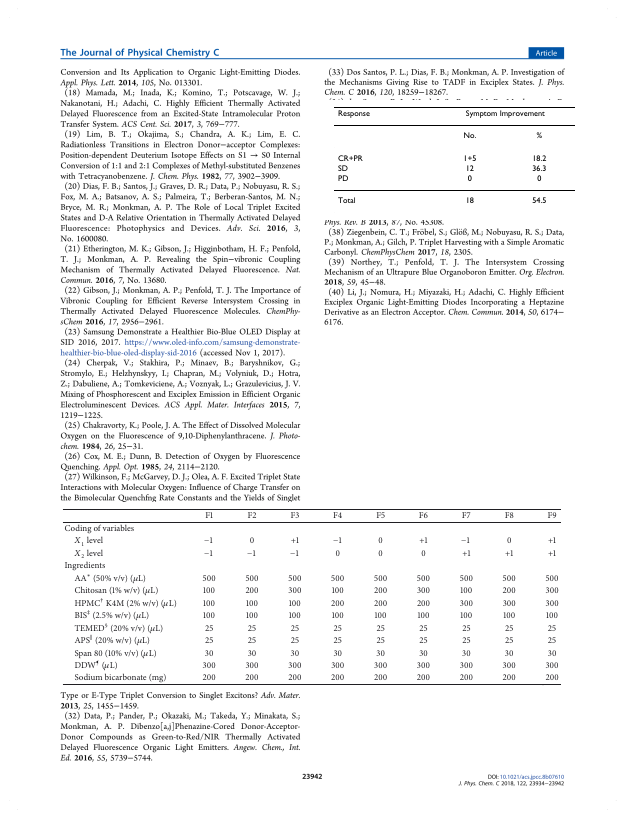borderless: (61, 507, 561, 684), (332, 105, 576, 214)
cell: (73, 594, 178, 611), (73, 620, 164, 636), (73, 583, 159, 598), (73, 645, 158, 660), (73, 632, 151, 648), (73, 607, 150, 623), (73, 570, 147, 586), (73, 673, 167, 684), (73, 657, 119, 673), (464, 110, 545, 119), (63, 524, 135, 534), (73, 545, 104, 562), (73, 533, 104, 549), (63, 561, 106, 572), (336, 110, 370, 119), (336, 154, 363, 164), (203, 545, 215, 561), (246, 545, 258, 561), (289, 545, 301, 561), (203, 533, 215, 548), (332, 533, 344, 548), (336, 197, 356, 206), (244, 586, 260, 597), (244, 673, 260, 684), (461, 533, 472, 548), (287, 586, 302, 597), (373, 586, 388, 597), (416, 586, 431, 597), (502, 586, 517, 597), (545, 586, 560, 597), (330, 598, 345, 609), (373, 598, 388, 609), (416, 598, 431, 609), (459, 598, 474, 609), (502, 598, 517, 609), (545, 598, 560, 609), (202, 673, 217, 684), (287, 673, 302, 684), (330, 673, 345, 684), (373, 673, 388, 684), (416, 673, 431, 684), (459, 673, 474, 684), (502, 673, 517, 684), (545, 673, 560, 684), (244, 574, 260, 584), (244, 661, 260, 671), (531, 154, 547, 164), (531, 164, 547, 174), (202, 586, 216, 597), (331, 586, 345, 597), (459, 586, 473, 597), (202, 598, 216, 609), (245, 598, 259, 609), (288, 598, 302, 609), (202, 611, 216, 622), (245, 611, 259, 622), (288, 611, 302, 622), (331, 611, 345, 622), (374, 611, 388, 622), (416, 611, 430, 622), (459, 611, 473, 622), (502, 611, 516, 622), (545, 611, 559, 622), (202, 574, 217, 584), (287, 574, 302, 584), (330, 574, 345, 584), (373, 574, 388, 584), (416, 574, 431, 584), (459, 574, 474, 584), (502, 574, 517, 584), (545, 574, 560, 584), (202, 661, 217, 671), (287, 661, 302, 671), (330, 661, 345, 671), (373, 661, 388, 671), (416, 661, 431, 671), (459, 661, 474, 671), (502, 661, 517, 671), (545, 661, 560, 671), (462, 154, 477, 164), (531, 197, 547, 206), (462, 132, 477, 141), (289, 511, 300, 522), (332, 511, 343, 522), (375, 511, 386, 522), (418, 511, 429, 522), (461, 511, 472, 522), (504, 511, 515, 522), (547, 511, 558, 522), (418, 536, 429, 547), (375, 623, 386, 634), (418, 623, 429, 634), (461, 623, 472, 634), (332, 648, 343, 659), (375, 648, 386, 659), (418, 648, 429, 659), (461, 648, 472, 659), (336, 164, 348, 174), (336, 175, 349, 184), (204, 511, 214, 522), (247, 511, 257, 522), (290, 536, 300, 547), (547, 536, 557, 547), (204, 623, 214, 634), (247, 623, 257, 634), (290, 623, 300, 634), (333, 623, 343, 634), (504, 623, 514, 634), (547, 623, 557, 634), (375, 636, 386, 646), (418, 636, 429, 646), (461, 636, 472, 646), (204, 648, 214, 659), (247, 648, 257, 659), (290, 648, 300, 659), (504, 648, 514, 659), (547, 648, 557, 659), (461, 549, 471, 559), (504, 549, 514, 559), (547, 549, 557, 559), (204, 636, 214, 646), (247, 636, 257, 646), (290, 636, 300, 646), (333, 636, 343, 646), (504, 636, 514, 646), (547, 636, 557, 646), (464, 164, 474, 174), (464, 197, 474, 206), (377, 536, 384, 547), (535, 132, 543, 141), (377, 549, 384, 559), (420, 549, 427, 559), (249, 536, 255, 547), (506, 536, 512, 547), (335, 549, 341, 559), (466, 175, 472, 184), (536, 175, 542, 184)
